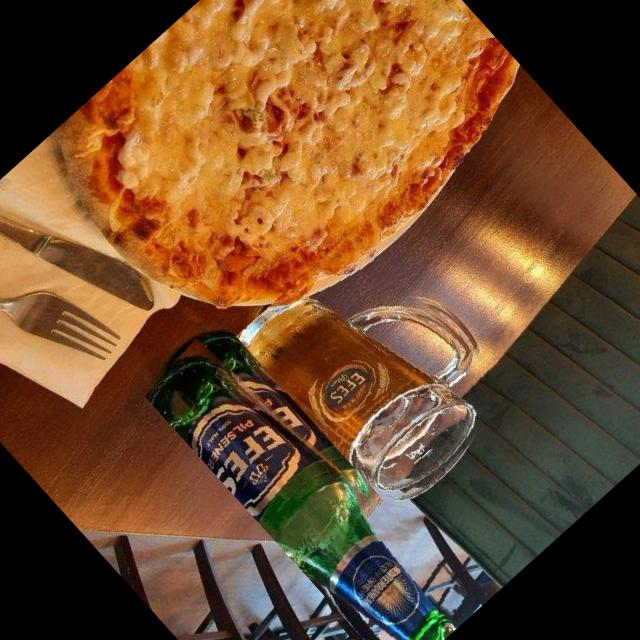Glass: (137, 312, 484, 640), (233, 217, 530, 517)
